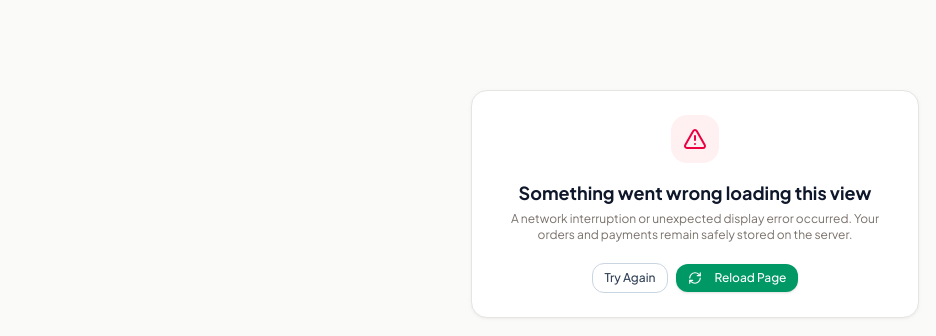
Test: Frontend Reliability, Accessibility & Performance › ErrorBoundary catches chunk/runtime failures without leaking stack traces and allows recovery
Expected: the message is shown, x1=471 y1=90 x2=919 y2=318
Expected: the heading "Something went wrong loading this view" is shown, x1=496 y1=179 x2=894 y2=207
Click the button "Try Again".
click(630, 278)  # box x1=592 y1=263 x2=668 y2=293
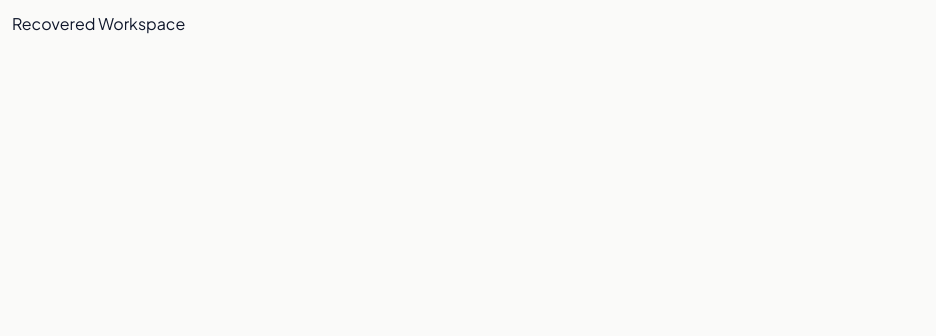
Result: the text "Recovered Workspace" is shown at x1=12 y1=13 x2=185 y2=34
